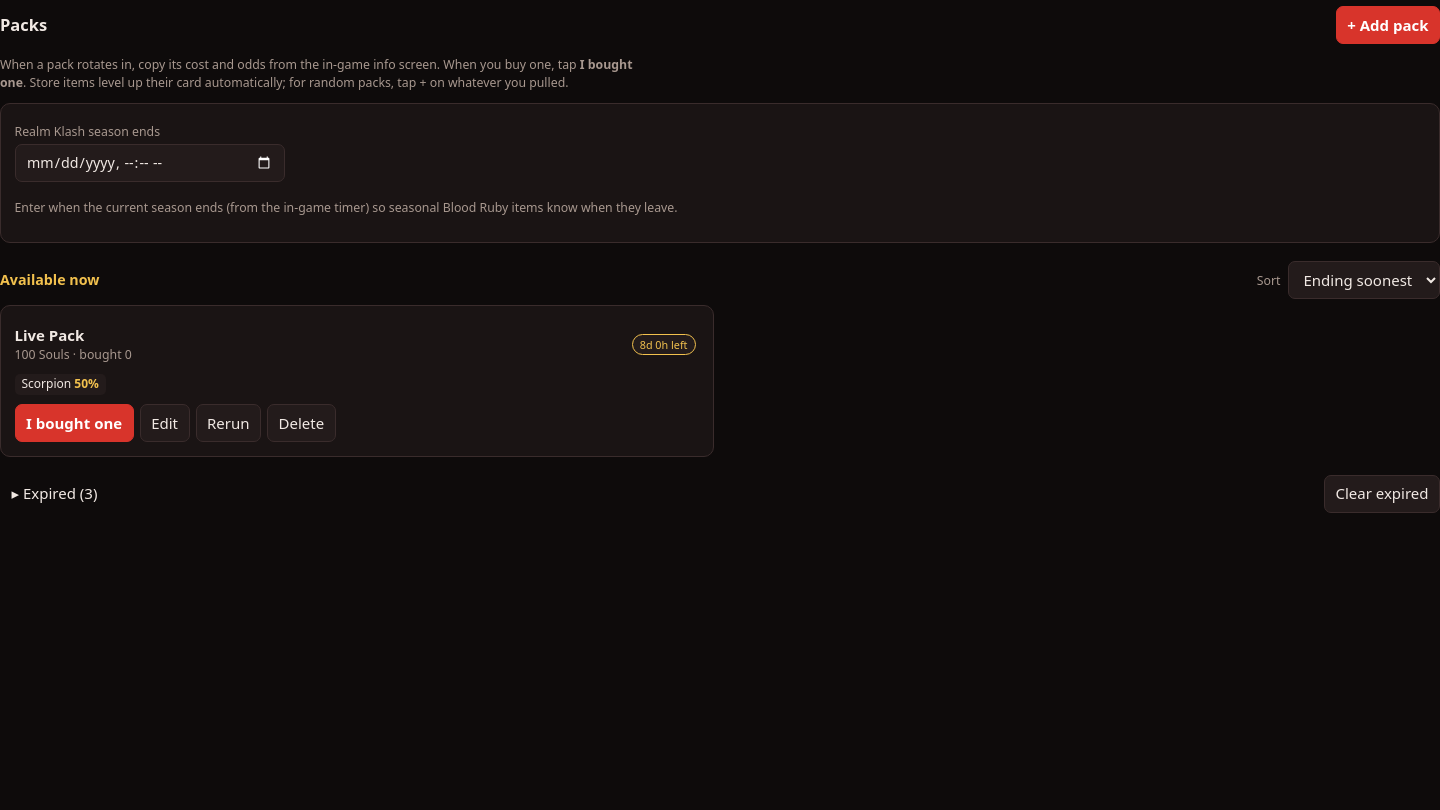
Test: Packs: taps on a screen a sync has changed › asks to remove a drop whose card a sync deleted while the editor was open
The image size is (1440, 810).
What coordinates should you click on to do the following:
click the button "Edit"
I would click on:
 (165, 423)
Its box is [140, 404, 190, 442].
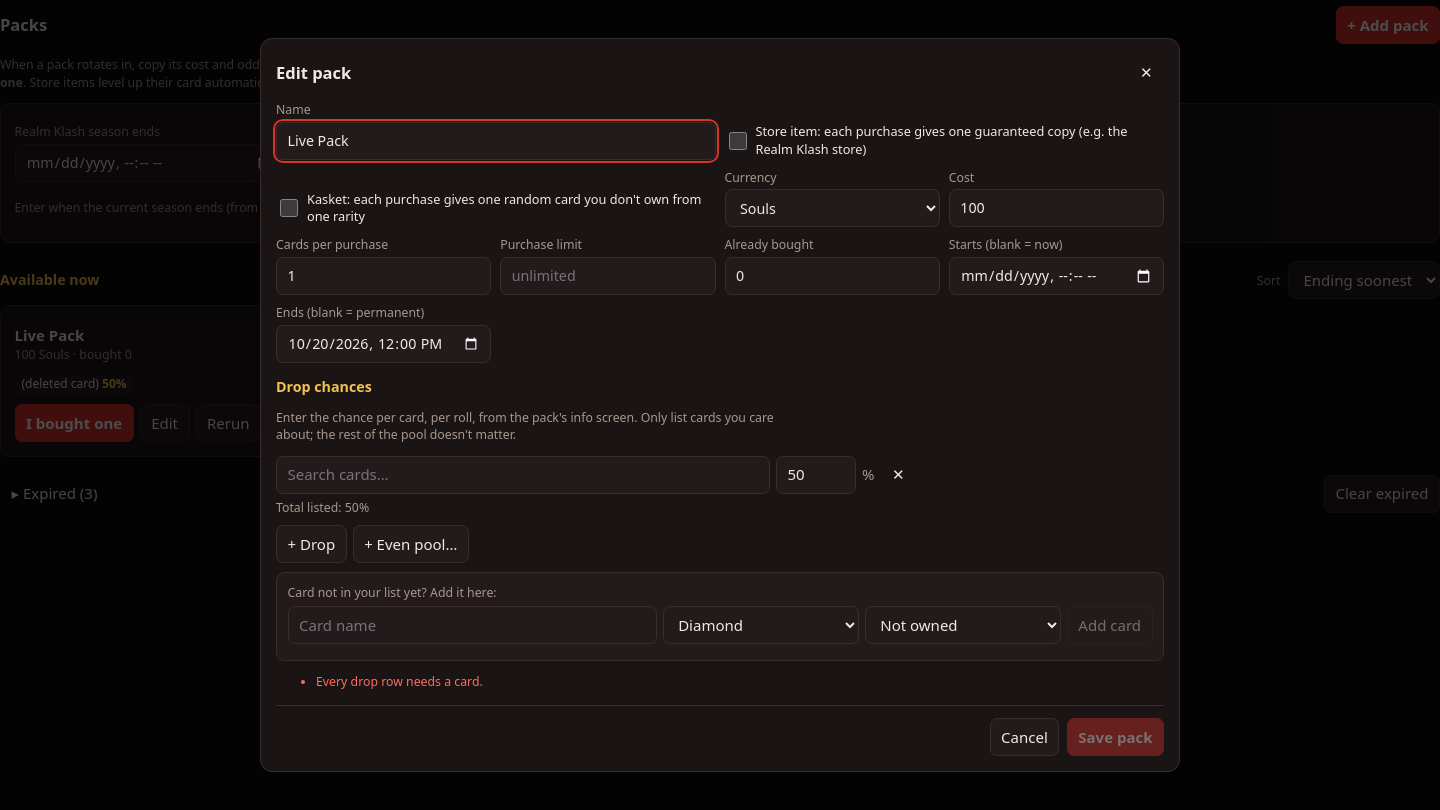
What coordinates should you click on to do the following:
click the button named "Remove drop"
I would click on:
 (898, 475)
Its box is [880, 456, 916, 494].
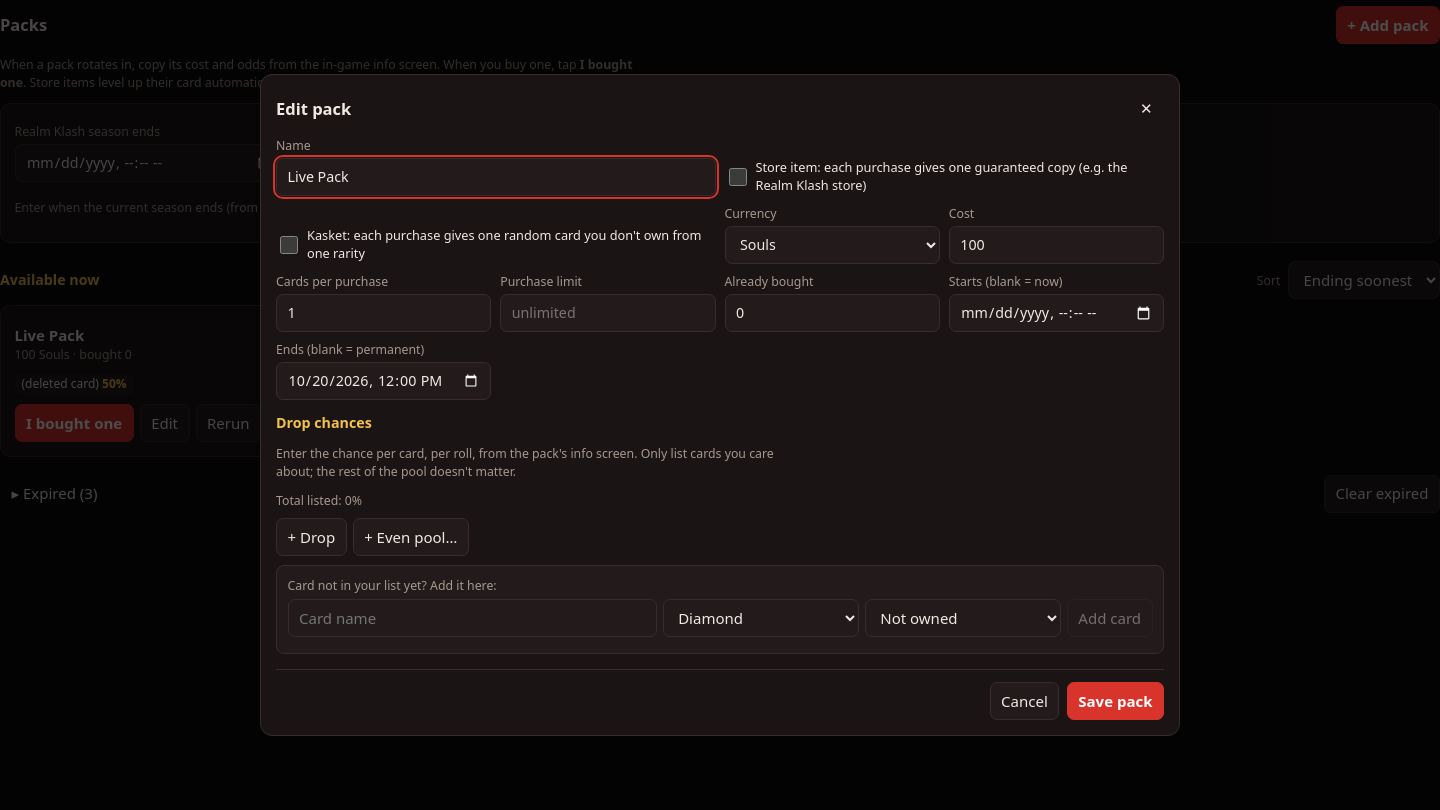
Expected: the button "Save pack" is enabled, [1067, 682, 1164, 720]
